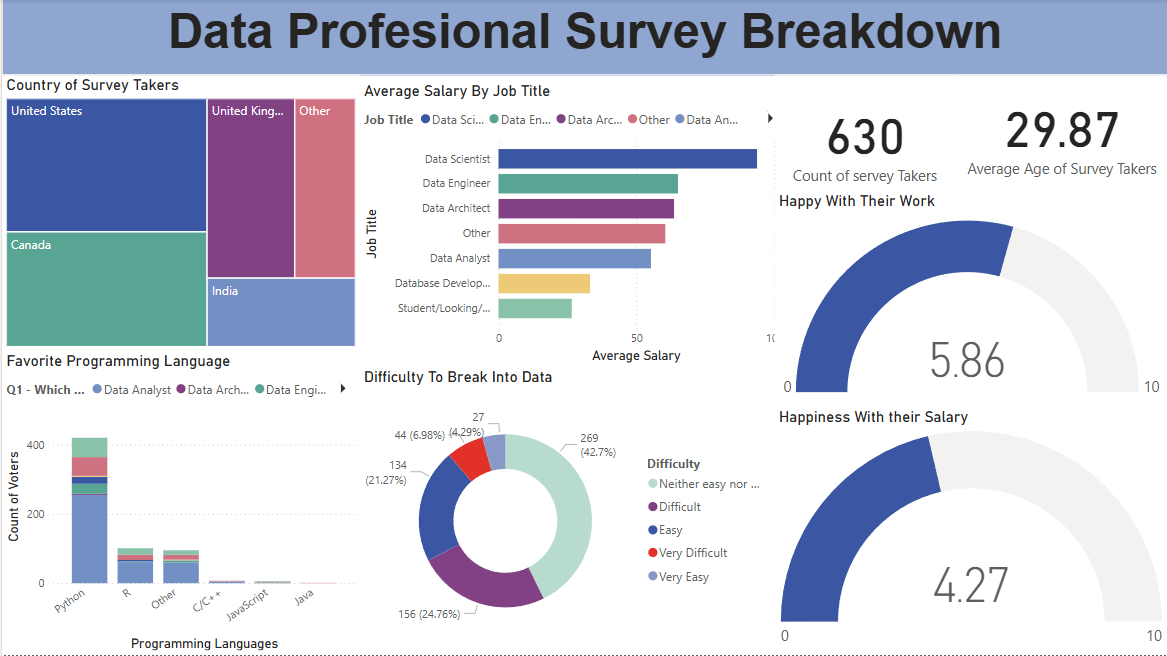

The page's visual inventory and layout, read from the dashboard file:
{"tool":"powerbi","page":{"name":"Page 1","canvas":[1280,720],"ordinal":0},"visuals":[{"type":"textbox","box":[0,0,1280.3,83.7],"z":0},{"type":"card","fields":{"Values":["CountNonNull(Data Professional Survey.Unique ID)"]},"box":[847.8,83.7,198.9,142.1],"z":1000},{"type":"card","fields":{"Values":["Avg(Data Professional Survey.Q10 - Current Age)"]},"box":[1046.7,83.7,233.6,127.9],"z":2000},{"type":"barChart","title":"Average Salary By Job Title","fields":{"Category":["Data Professional Survey.Q1 - Which Title Best Fits your Current Role?.1"],"Y":["Avg(Data Professional Survey.Average Salary)"],"Series":["Data Professional Survey.Q1 - Which Title Best Fits your Current Role?.1"]},"box":[393.1,90,470.5,314.2],"z":3000},{"type":"columnChart","title":"Favorite Programming Language","fields":{"Category":["Data Professional Survey.Q5 - Favorite Programming Language.1"],"Y":["CountNonNull(Data Professional Survey.Unique ID)"],"Series":["Data Professional Survey.Q1 - Which Title Best Fits your Current Role?.1"]},"box":[0,386.8,393.1,333.1],"z":4000},{"type":"treemap","title":"Country of Survey Takers","fields":{"Group":["Data Professional Survey.Q11 - Which Country do you live in?.1"],"Values":["Avg(Data Professional Survey.Average Salary)"]},"box":[0,83.7,393.1,303.1],"z":5000},{"type":"gauge","title":"Happy With Their Work","fields":{"Y":["Avg(Data Professional Survey.Q6 - How Happy are you in your Current Position with the following? (Coworkers))"],"MinValue":["Min(Data Professional Survey.Q6 - How Happy are you in your Current Position with the following? (Coworkers))1"],"MaxValue":["Max(Data Professional Survey.Q6 - How Happy are you in your Current Position with the following? (Coworkers))2"]},"box":[847.8,211.5,432.6,236.8],"z":6000},{"type":"gauge","title":"Happiness With their Salary","fields":{"Y":["Avg(Data Professional Survey.Q6 - How Happy are you in your Current Position with the following? (Salary))"],"MinValue":["Min(Data Professional Survey.Q6 - How Happy are you in your Current Position with the following? (Salary))"],"MaxValue":["Max(Data Professional Survey.Q6 - How Happy are you in your Current Position with the following? (Salary))"]},"box":[847.8,448.3,432.6,271.5],"z":7000},{"type":"donutChart","title":"Difficulty To Break Into Data","fields":{"Category":["Data Professional Survey.Q7 - How difficult was it for you to break into Data?"],"Y":["CountNonNull(Data Professional Survey.Average Salary)"]},"box":[393.1,404.1,454.7,315.7],"z":8000}]}

Visuals, with their boxes in screenshot pixels (x1, y1, x2, y2), scaled from the page's 1280x720 canvas onto the 1167x656 screenshot:
textbox: select_region(0, 0, 1166, 76)
card - CountNonNull(Data Professional Survey.Unique ID): select_region(773, 76, 954, 206)
card - Avg(Data Professional Survey.Q10 - Current Age): select_region(954, 76, 1166, 193)
"Average Salary By Job Title" barChart: select_region(358, 82, 787, 368)
"Favorite Programming Language" columnChart: select_region(0, 352, 358, 655)
"Country of Survey Takers" treemap: select_region(0, 76, 358, 352)
"Happy With Their Work" gauge: select_region(773, 193, 1166, 408)
"Happiness With their Salary" gauge: select_region(773, 408, 1166, 655)
"Difficulty To Break Into Data" donutChart: select_region(358, 368, 773, 655)
